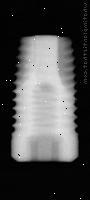Neoss: (10, 33, 79, 162)
